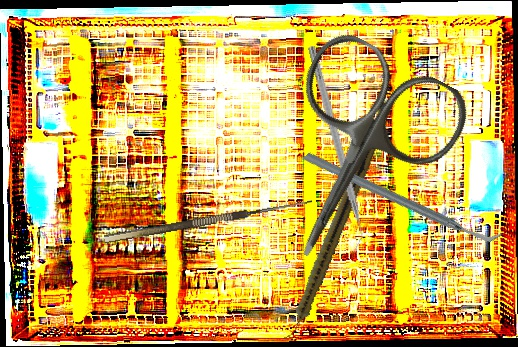Chopper: (300, 91, 504, 302), (296, 44, 371, 255)
Handpiece: (280, 135, 380, 345)
Hook Surgical: (101, 187, 314, 244)
Iris Scissors: (230, 23, 479, 294)
